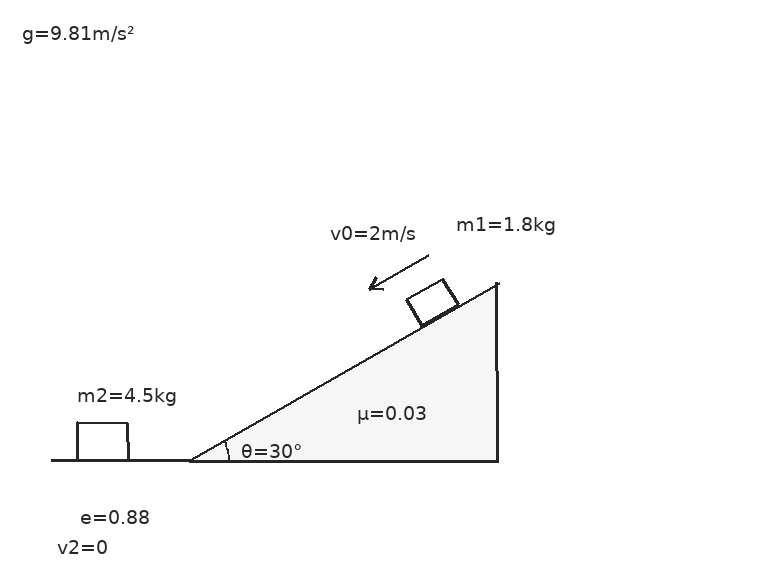block: (404, 276, 460, 328), (74, 421, 130, 462)
ramp: (187, 280, 499, 462)
